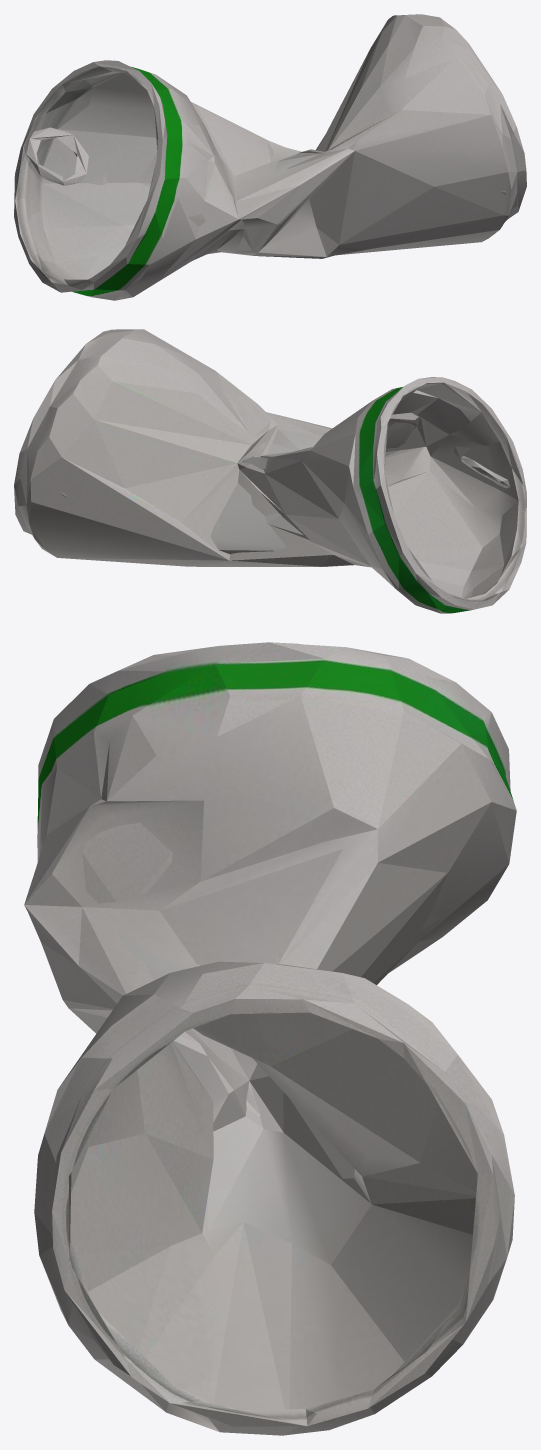
File: lataaplastada.fbx
3 renders of one model, top to bottom at view 1: azimuth 30°, elevation 25°; view 2: azimuth 150°, elevation 25°; view 3: azimuth 270°, elevation 25°, orthographic. The views are drawn at different scales.
Parts seen in each view (by area): view 1: lataaplastada.001; view 2: lataaplastada.001; view 3: lataaplastada.001.
Boxes of the visible parts, x1,y1,x2,y2 form: lataaplastada.001: (14, 14, 526, 300); lataaplastada.001: (14, 329, 526, 613); lataaplastada.001: (24, 642, 516, 1435).
Size of the model in its own units: 0.2 by 0.1027 by 0.0946.
Materials: 1 (1 with a texture image).
